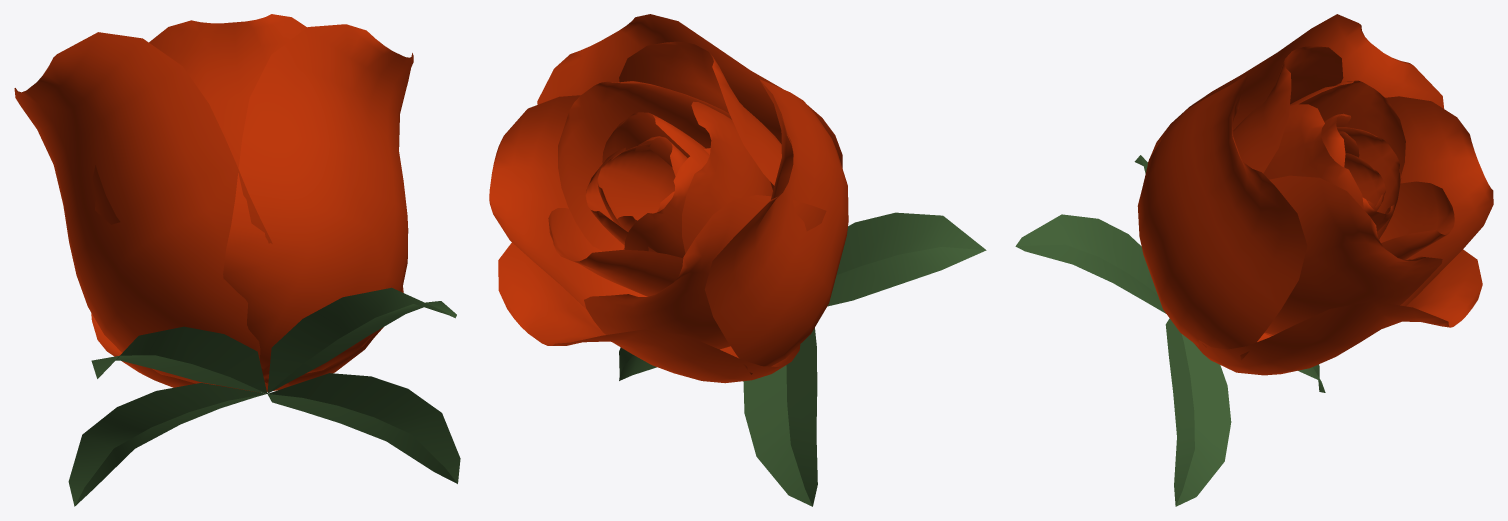
File: Petalos.fbx
The picture shows the model from 3 angles, left to right: view 1: azimuth 30°, elevation 25°; view 2: azimuth 150°, elevation 25°; view 3: azimuth 270°, elevation 25°; orthographic projection. The views are drawn at different scales.
Parts seen in each view (by area): view 1: polySurface93, polySurface345; view 2: polySurface93, polySurface345; view 3: polySurface93, polySurface345.
Boxes of the visible parts, x1=… form: polySurface93: x1=14, y1=14, x2=413, y2=392; polySurface345: x1=68, y1=287, x2=460, y2=506; polySurface93: x1=489, y1=14, x2=848, y2=383; polySurface345: x1=619, y1=212, x2=986, y2=506; polySurface93: x1=1137, y1=14, x2=1493, y2=375; polySurface345: x1=1015, y1=155, x2=1325, y2=506.
Bounding box in the file's own units: 5.7 × 6.24 × 6.82.
